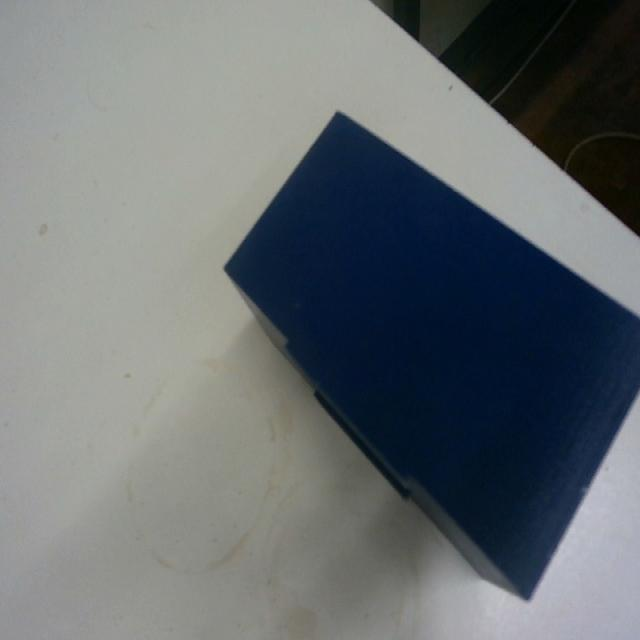Blue Cuboid: (221, 107, 639, 600)
